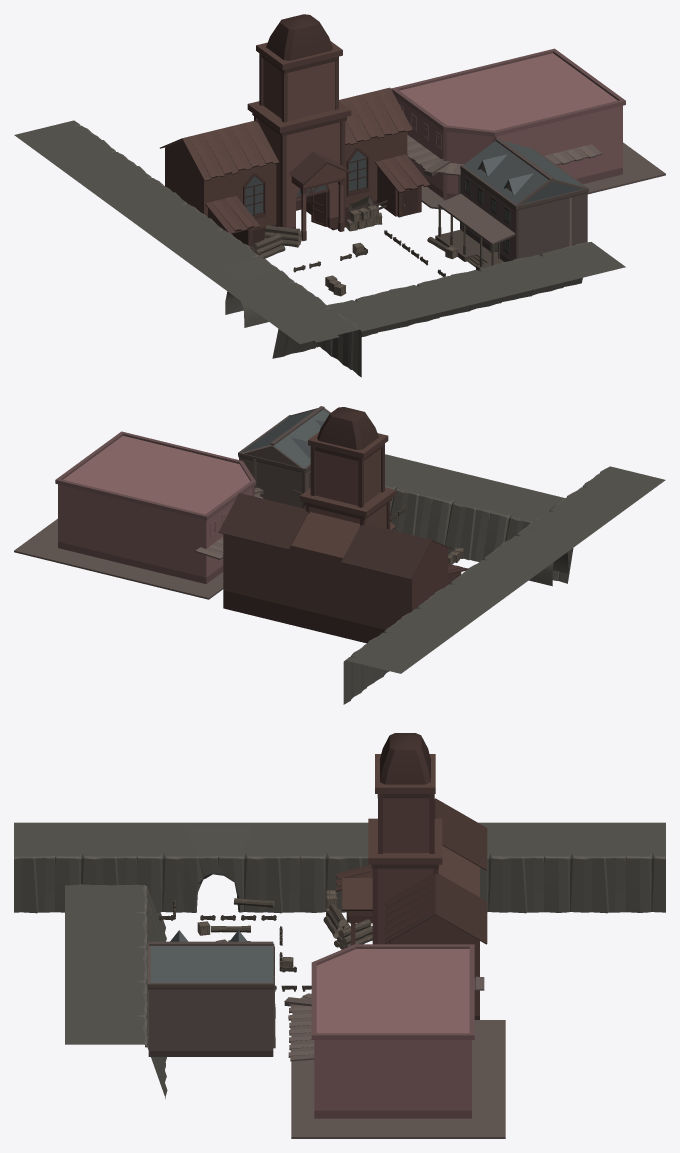
Rendered from ZB_01_NotWalkable.fbx.
3 views of the same model, one above another, from view 1: azimuth 30°, elevation 25°; view 2: azimuth 150°, elevation 25°; view 3: azimuth 270°, elevation 25° (orthographic). The views are drawn at different scales.
Visible parts, largest first — view 1: NotWalk01, NotWalk02; view 2: NotWalk01, NotWalk02; view 3: NotWalk01, NotWalk02.
Part boxes in pixels (bbox=[...]): NotWalk01: bbox=[160, 14, 665, 296]; NotWalk02: bbox=[14, 120, 625, 377]; NotWalk01: bbox=[14, 406, 494, 643]; NotWalk02: bbox=[343, 454, 665, 704]; NotWalk01: bbox=[145, 733, 505, 1138]; NotWalk02: bbox=[14, 822, 665, 1098].
Size of the model in its own units: 631 by 285 by 640.
